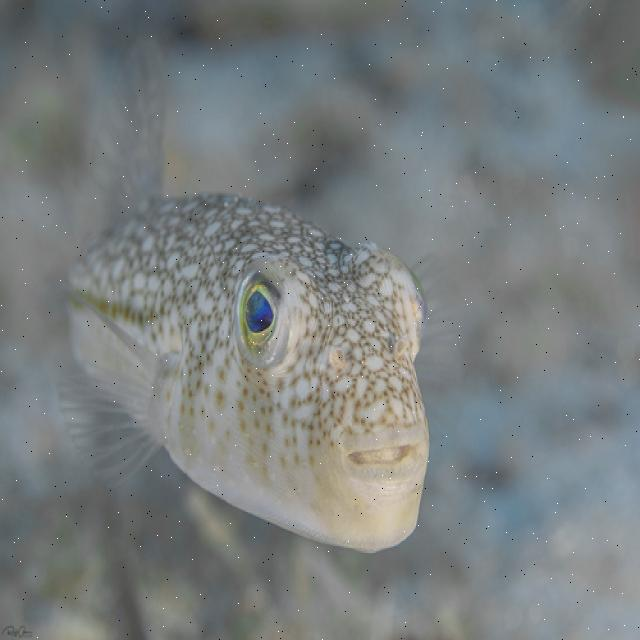Balik: (61, 118, 428, 551)
